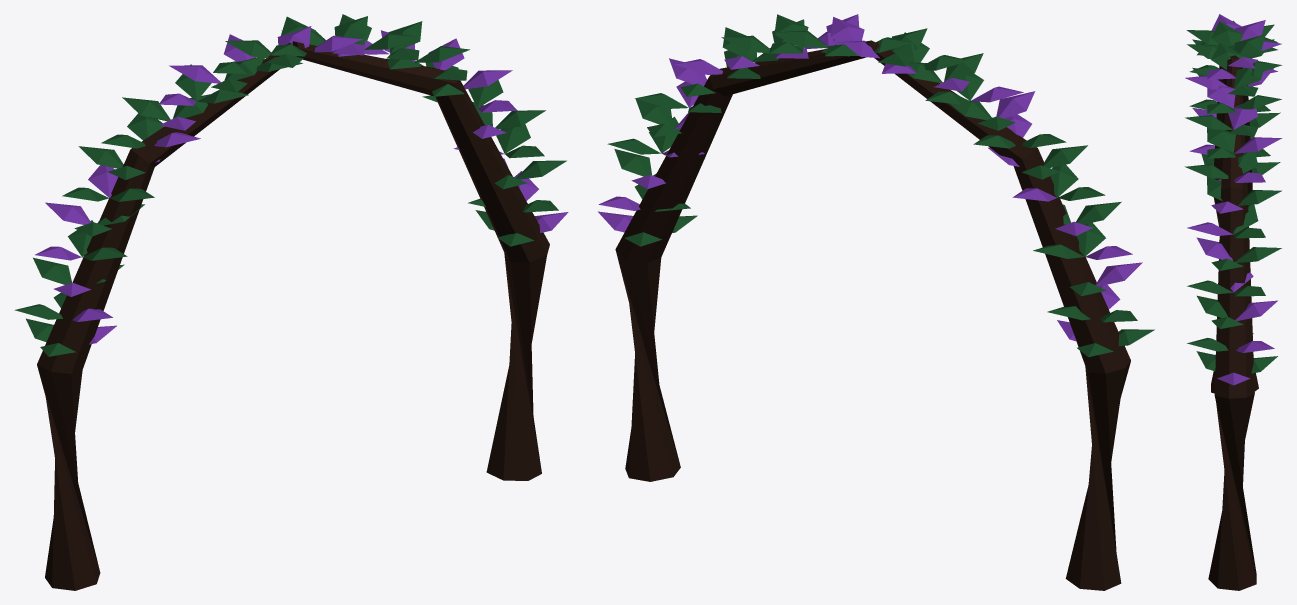
File: Arco_do_jardim_LOD1.fbx
3 renders of one model, left to right at view 1: azimuth 30°, elevation 25°; view 2: azimuth 150°, elevation 25°; view 3: azimuth 270°, elevation 25°, orthographic. The views are drawn at different scales.
Visible parts, largest first — view 1: Arco_do_jardim_LOD1; view 2: Arco_do_jardim_LOD1; view 3: Arco_do_jardim_LOD1.
Part boxes in pixels (bbox=[...]): Arco_do_jardim_LOD1: bbox=[14, 14, 568, 590]; Arco_do_jardim_LOD1: bbox=[598, 14, 1154, 590]; Arco_do_jardim_LOD1: bbox=[1184, 14, 1282, 590].
Size of the model in its own units: 397 by 337 by 69.66.
1 material, 1 textured.
